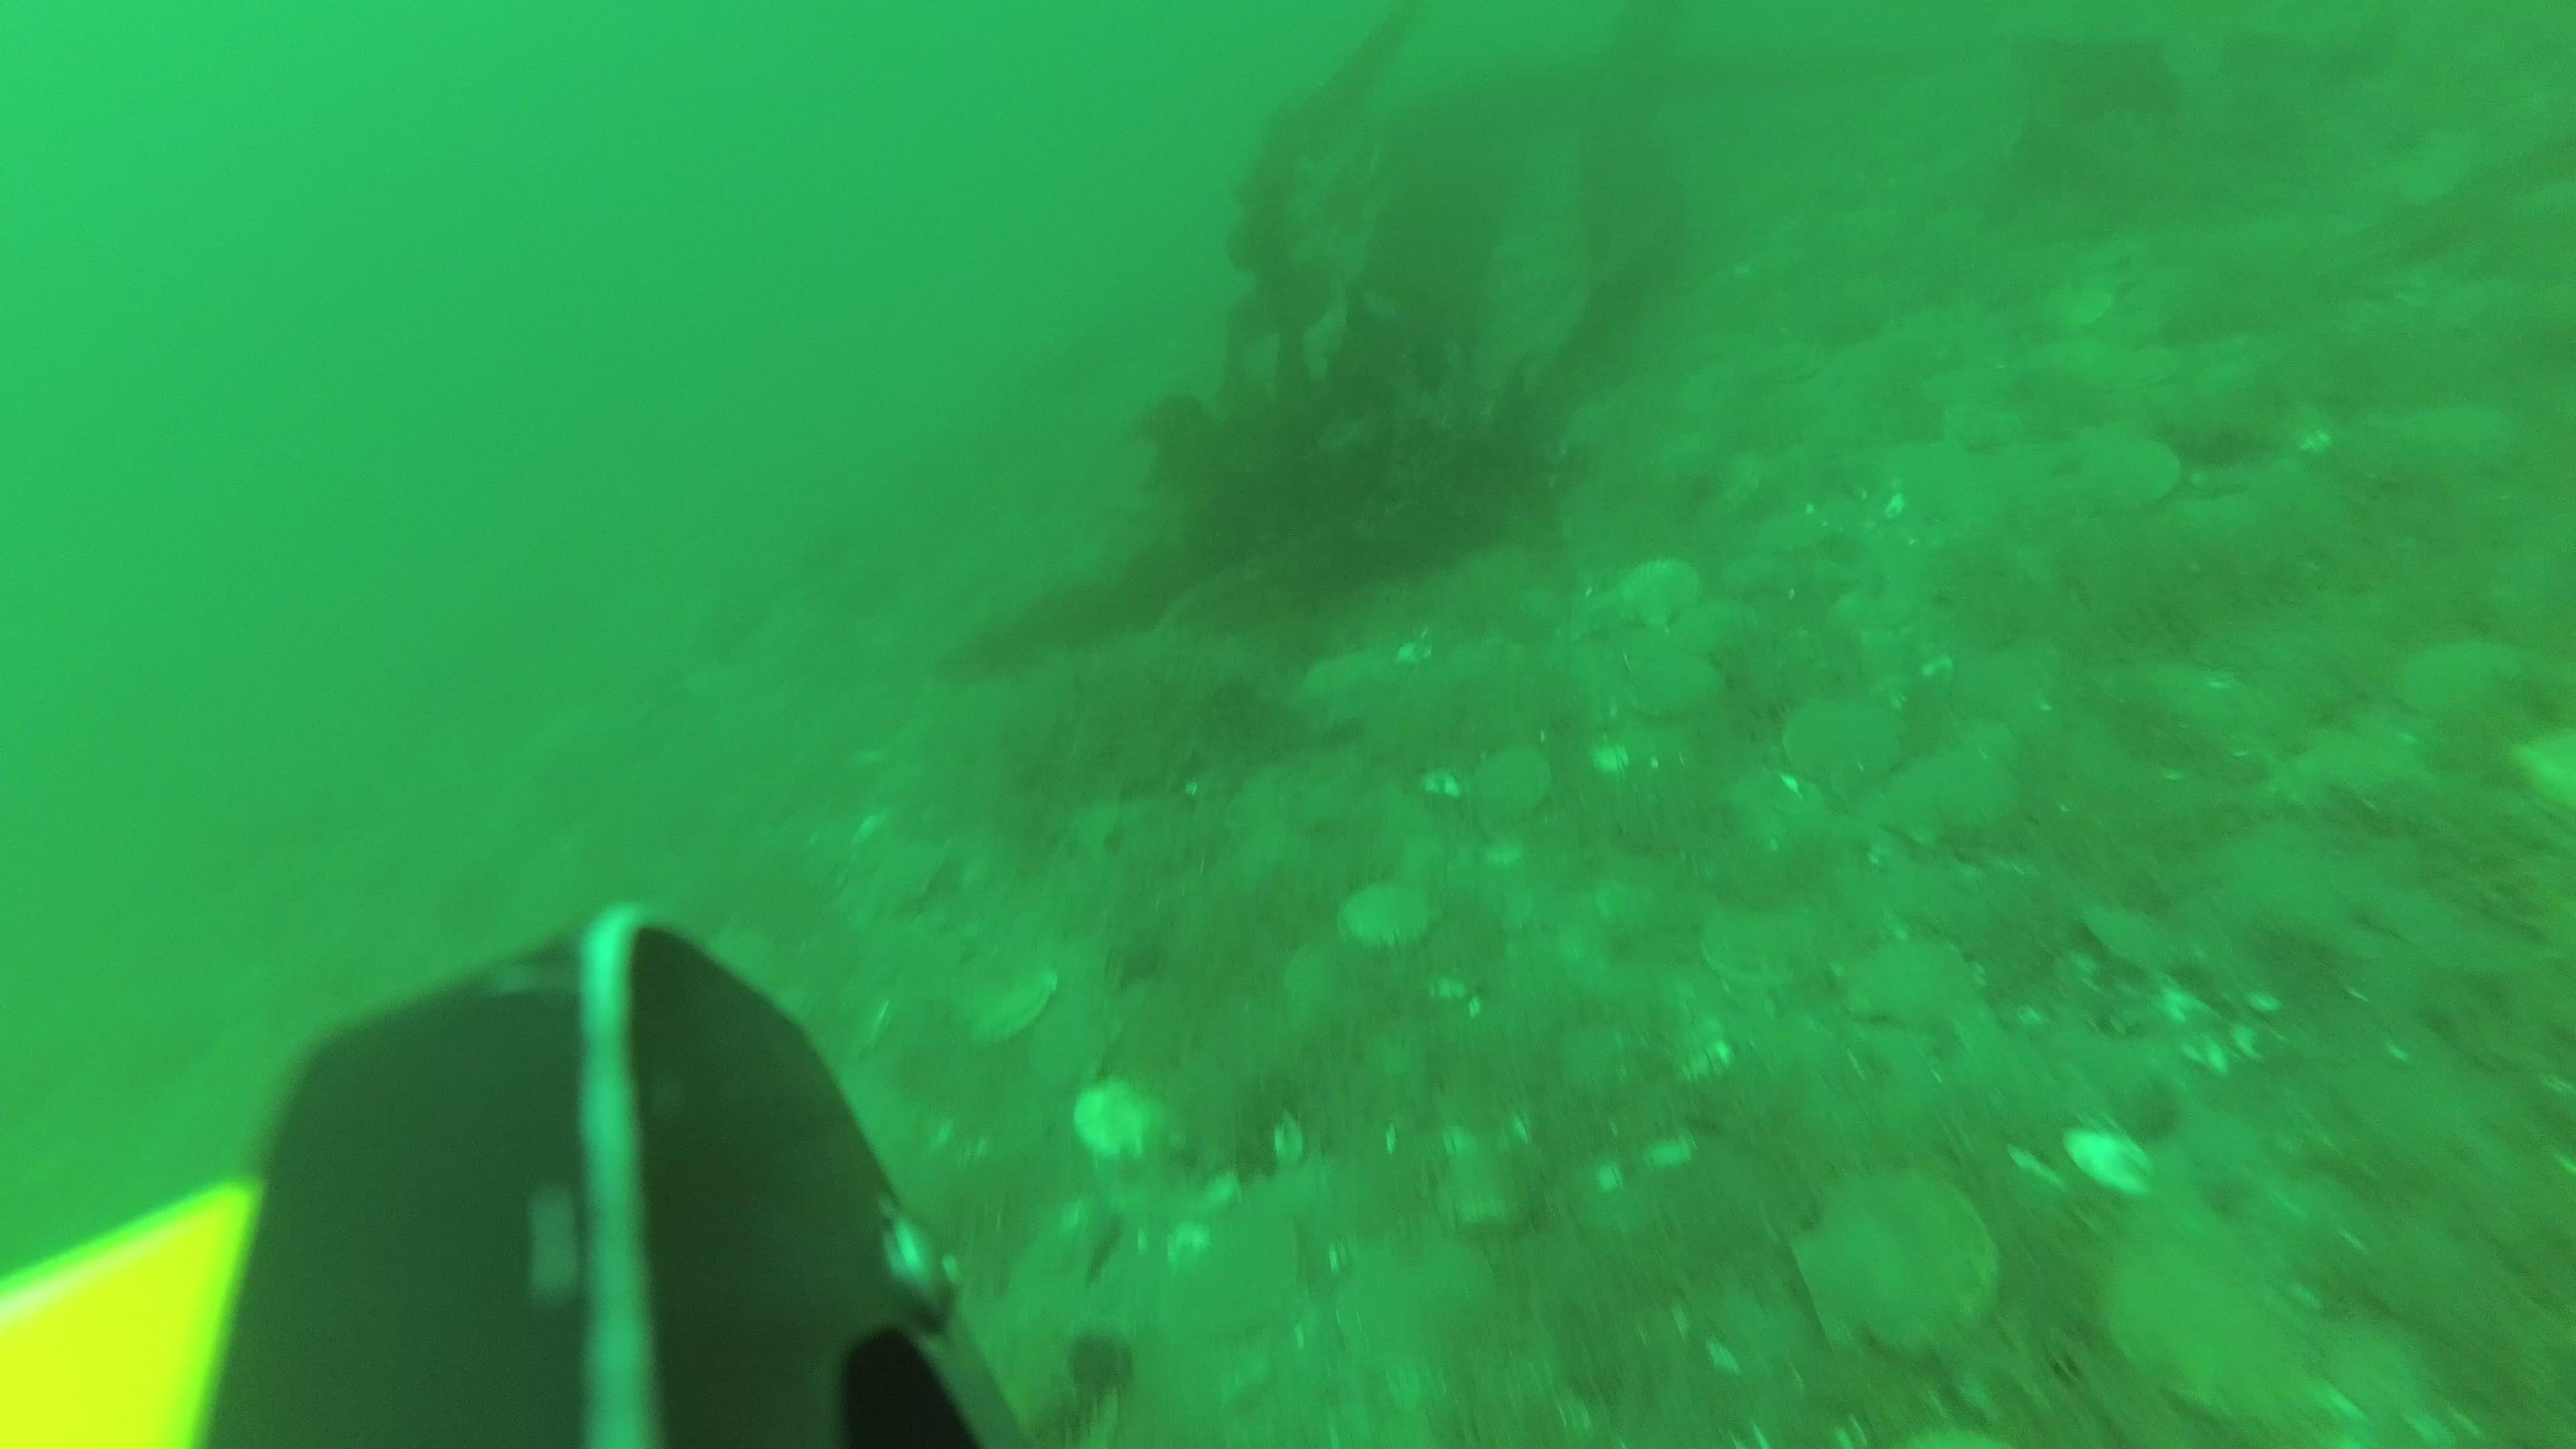scallop: (2112, 1223, 2312, 1412), (1790, 1180, 1982, 1361), (1336, 1237, 1502, 1361), (1185, 1215, 1313, 1343), (1845, 943, 1985, 1039), (1882, 755, 2013, 847), (2404, 640, 2523, 740), (2081, 895, 2192, 987), (1785, 702, 1902, 784), (2079, 430, 2181, 520), (1704, 902, 1828, 973), (1072, 1079, 1175, 1164), (1343, 870, 1442, 957), (1633, 642, 1727, 718), (1617, 561, 1713, 635), (1035, 1007, 1122, 1088), (978, 977, 1065, 1044), (1476, 745, 1550, 819)
